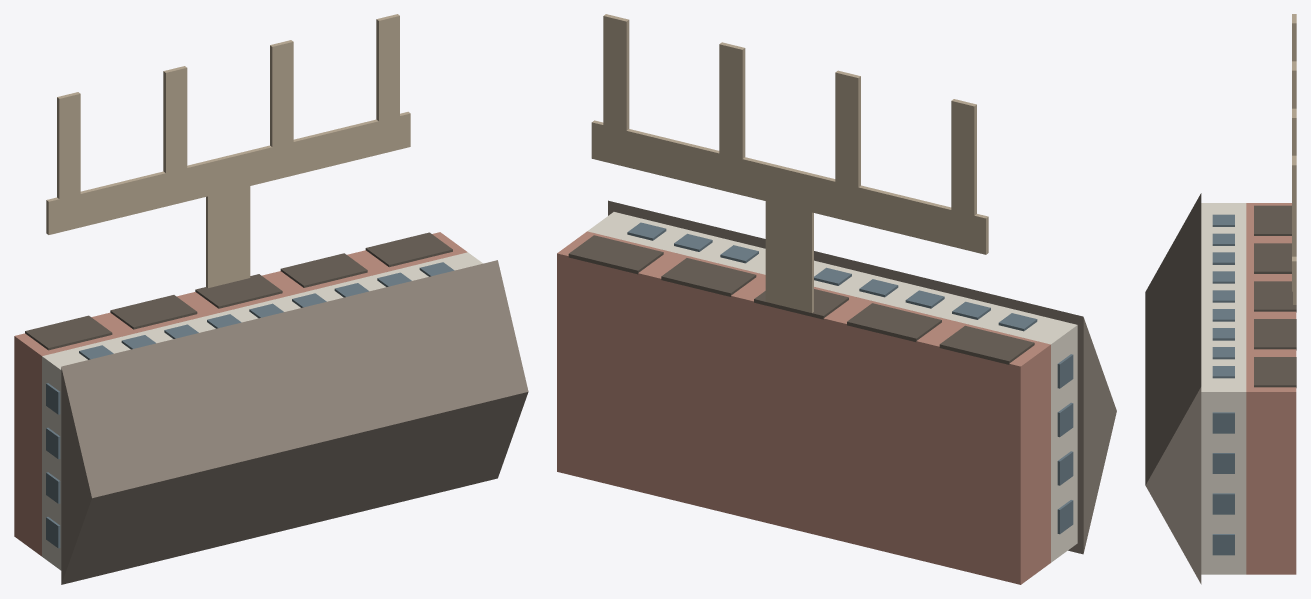
The model's file is r-115-donahue-rowing-center.glb.
The picture shows the model from 3 angles, left to right: view 1: azimuth 30°, elevation 25°; view 2: azimuth 150°, elevation 25°; view 3: azimuth 270°, elevation 25°; orthographic projection. The views are drawn at different scales.
Parts seen in each view (by area): view 1: roof, docks, brick-bays, bay-doors, clapboard-upper, windows; view 2: brick-bays, docks, clapboard-upper, roof, bay-doors, windows; view 3: roof, clapboard-upper, brick-bays, bay-doors, windows, docks.
Boxes of the visible parts, x1,y1,x2,y2 form: roof: (61,260,528,584); docks: (46,14,410,287); brick-bays: (14,232,467,556); bay-doors: (25,232,452,350); clapboard-upper: (42,252,482,570); windows: (46,262,454,548); brick-bays: (557,231,1050,584); docks: (591,14,988,312); clapboard-upper: (587,212,1077,562); roof: (608,200,1116,554); bay-doors: (568,235,1034,364); windows: (627,222,1073,534); roof: (1145,193,1201,584); clapboard-upper: (1201,203,1246,574); brick-bays: (1246,203,1296,574); bay-doors: (1254,205,1296,387); windows: (1212,214,1234,555); docks: (1292,14,1296,304).
Bounding box in the file's own units: 41000 × 39301 × 13500.
